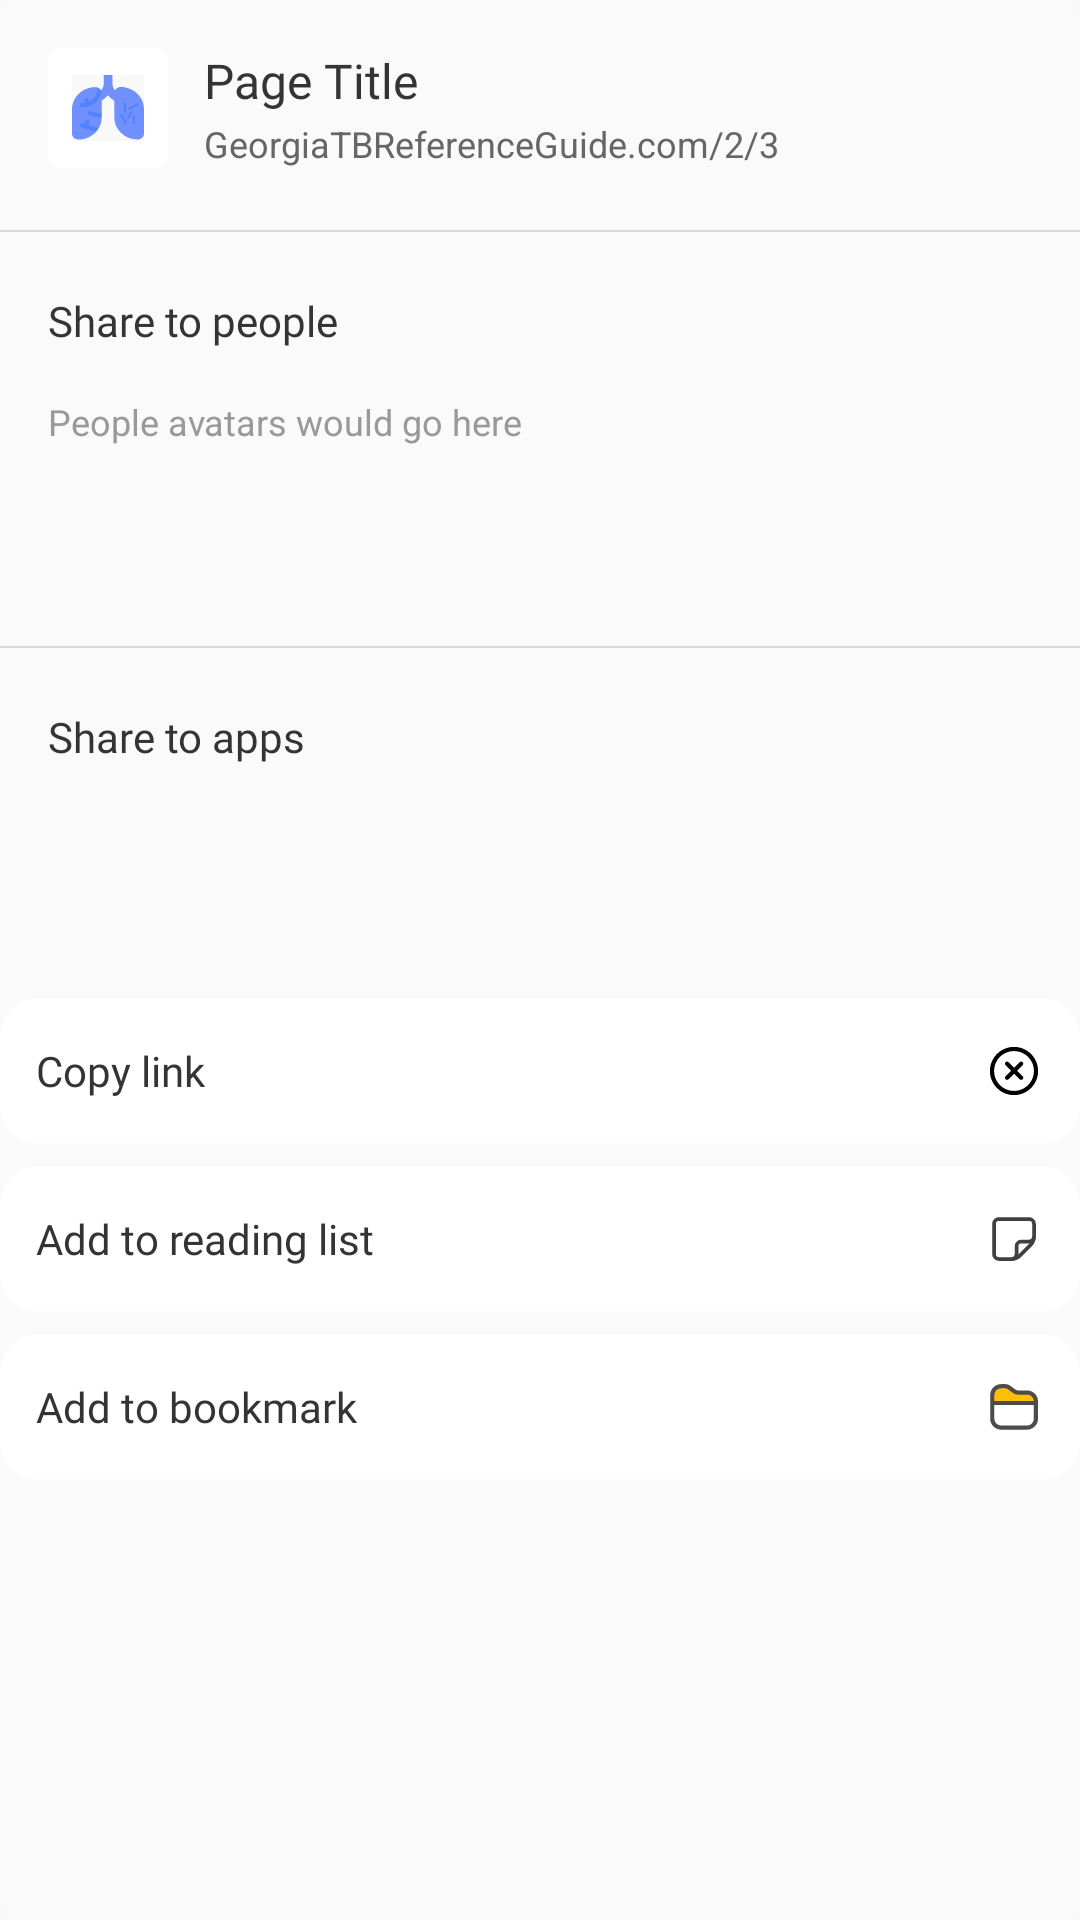

Named icons in this screenshot (1080px×1920px) and their bounding boxes, (x1, y1, x2, y2):
clear content: (990, 1047, 1038, 1095)
lung: (72, 75, 144, 140)
notes: (992, 1217, 1036, 1261)
